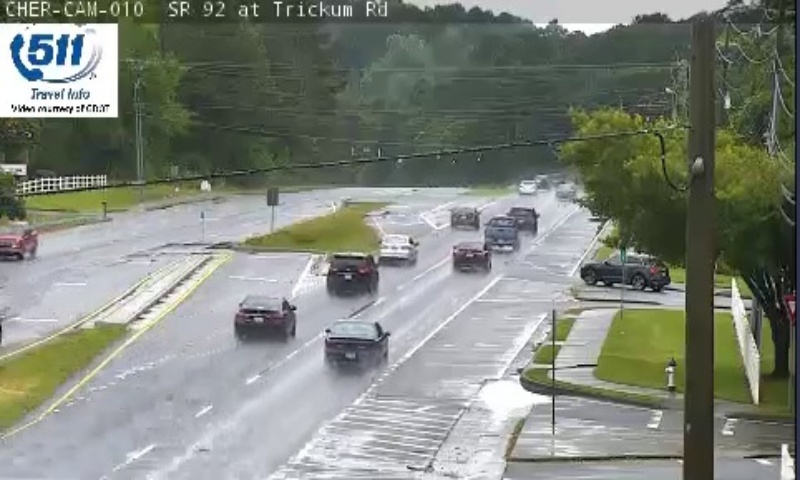car: (325, 320, 388, 369), (234, 294, 295, 335), (326, 252, 376, 294), (376, 232, 418, 265), (451, 238, 491, 268), (484, 216, 519, 247), (507, 207, 537, 234), (449, 205, 479, 229)
